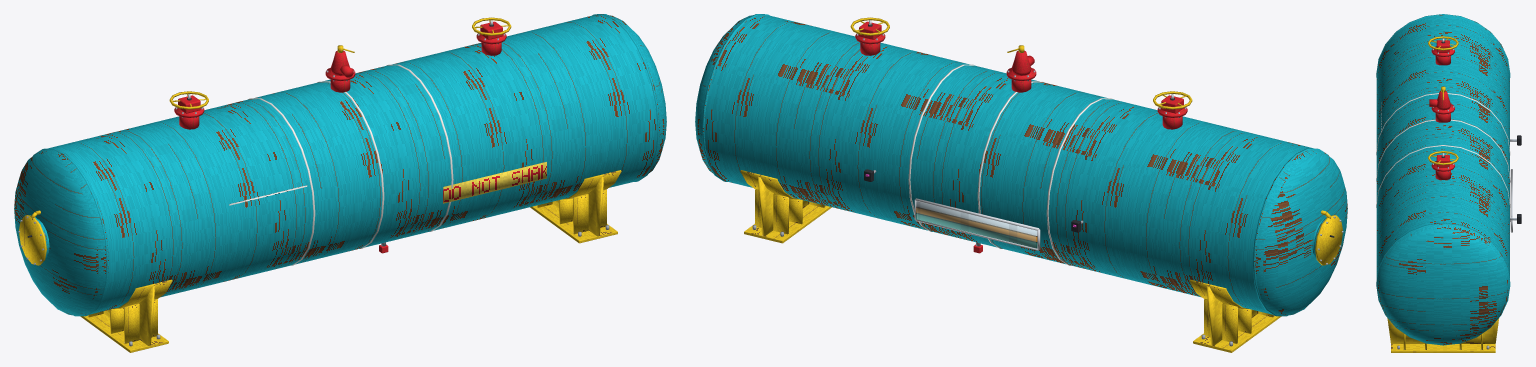
The model's file is p_separator.glb.
The picture shows the model from 3 angles, left to right: view 1: azimuth 30°, elevation 25°; view 2: azimuth 150°, elevation 25°; view 3: azimuth 270°, elevation 25°; orthographic projection. The views are drawn at different scales.
Parts seen in each view (by area): view 1: p_separator_lod0; view 2: p_separator_lod0; view 3: p_separator_lod0.
Part boxes in pixels (x1,y1,x2,y2): p_separator_lod0: (14, 14, 666, 352); p_separator_lod0: (695, 14, 1347, 352); p_separator_lod0: (1376, 14, 1521, 352).
Size of what is drawn, in the model's own units: 14.24 by 4.93 by 3.76.
3 materials, 1 textured.
